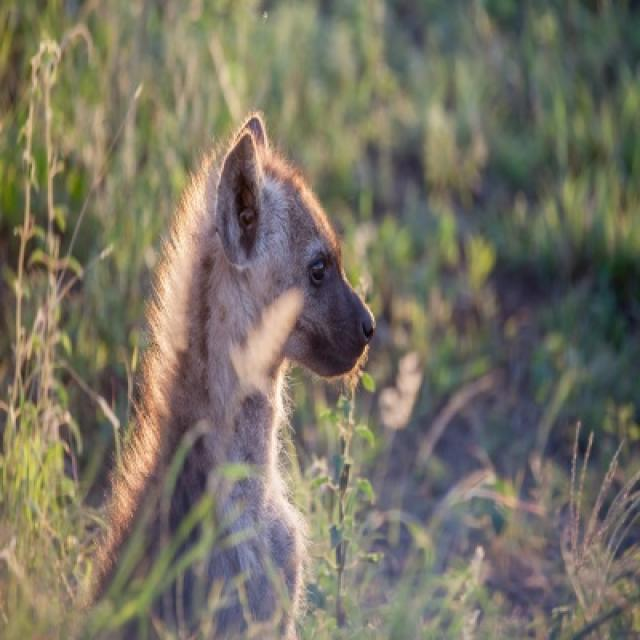hyena: (90, 112, 374, 638)
